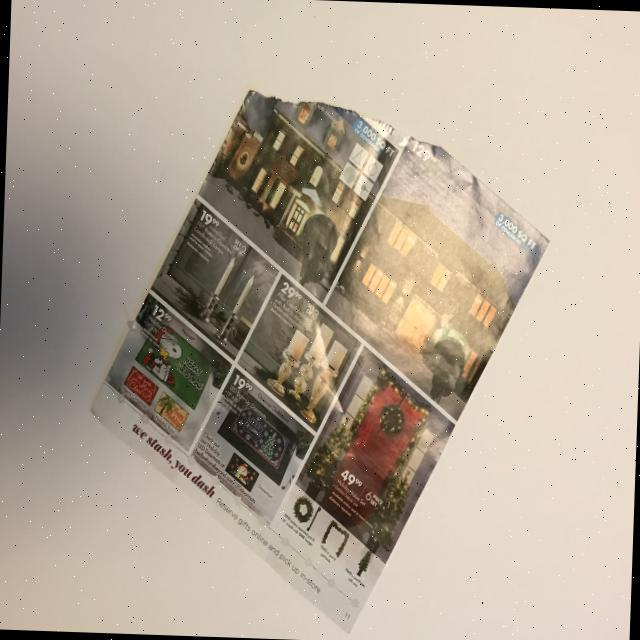paper: (82, 83, 555, 640)
